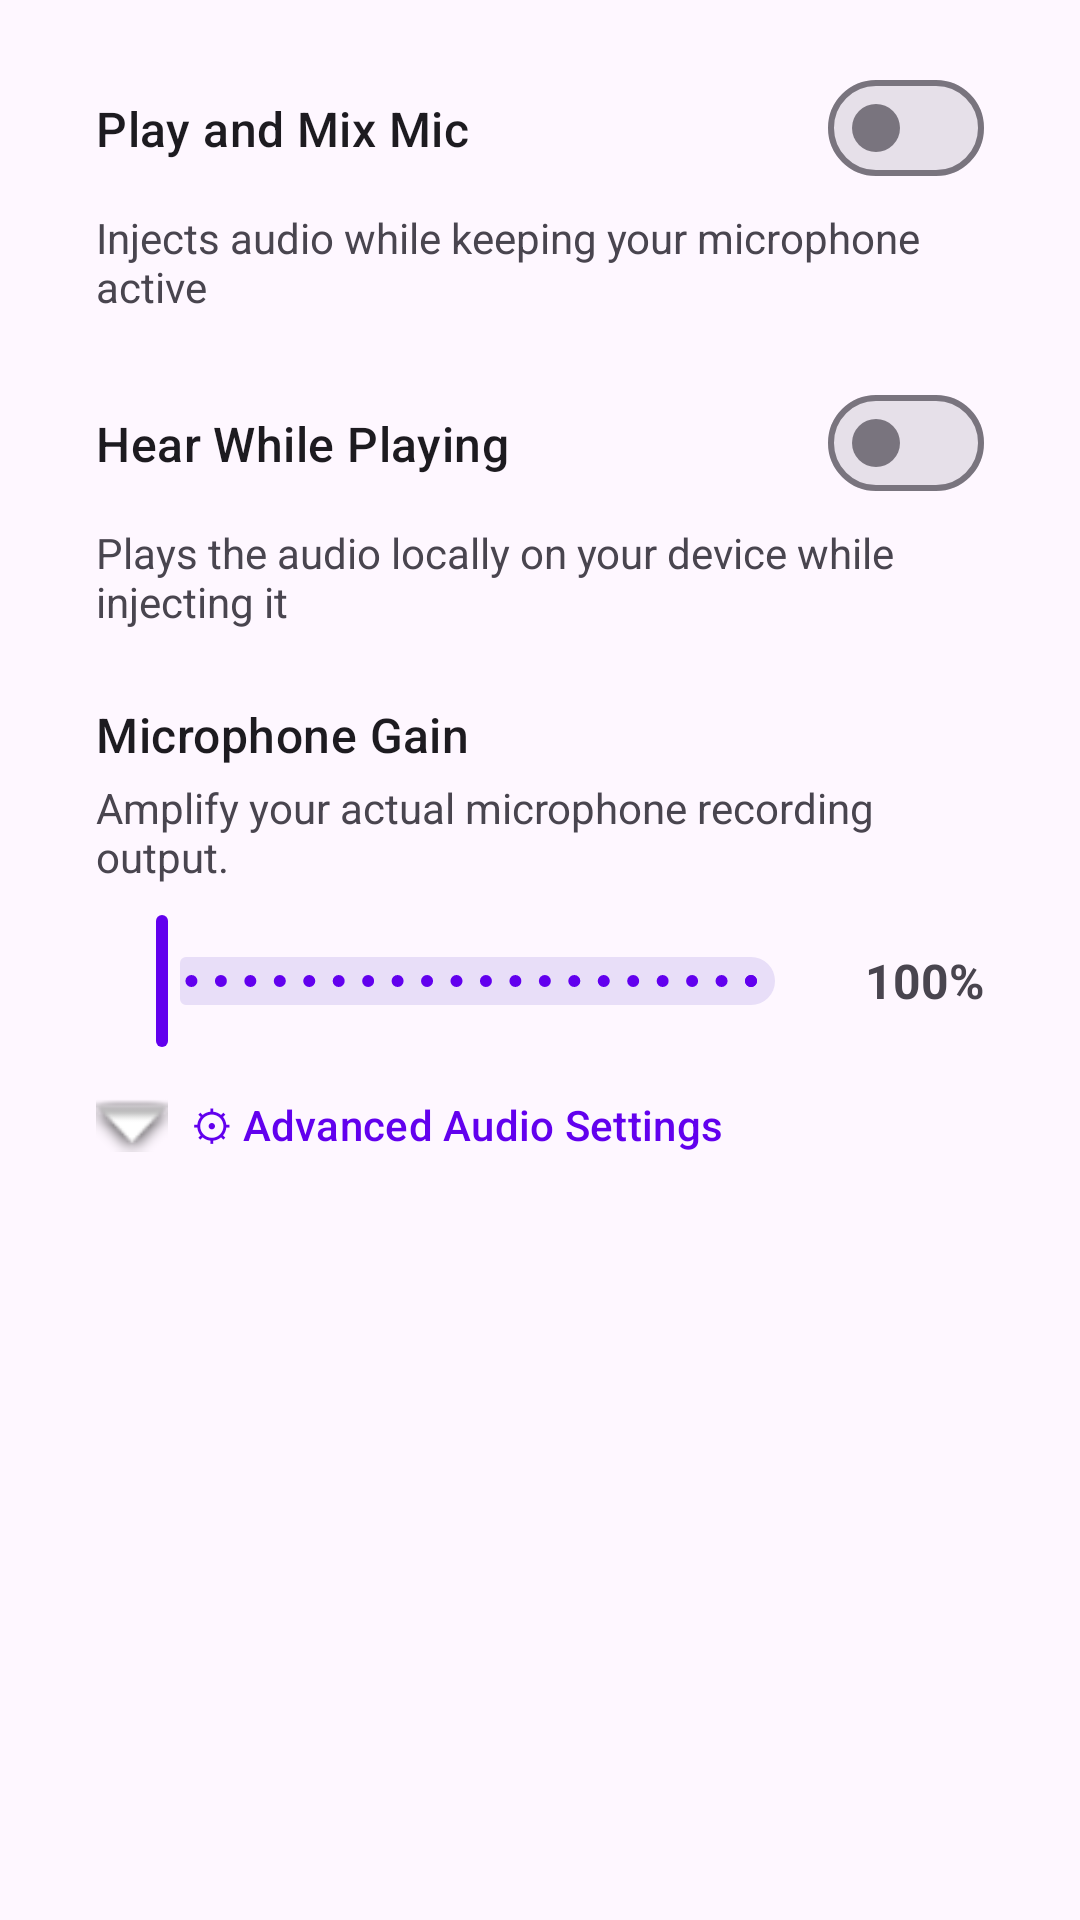

Point at icon controls on the screen. Image size 1080px x 1920px, points as [x,y].
expand: [132,1125]
